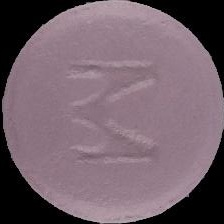51079-574: (0, 0, 224, 224)
